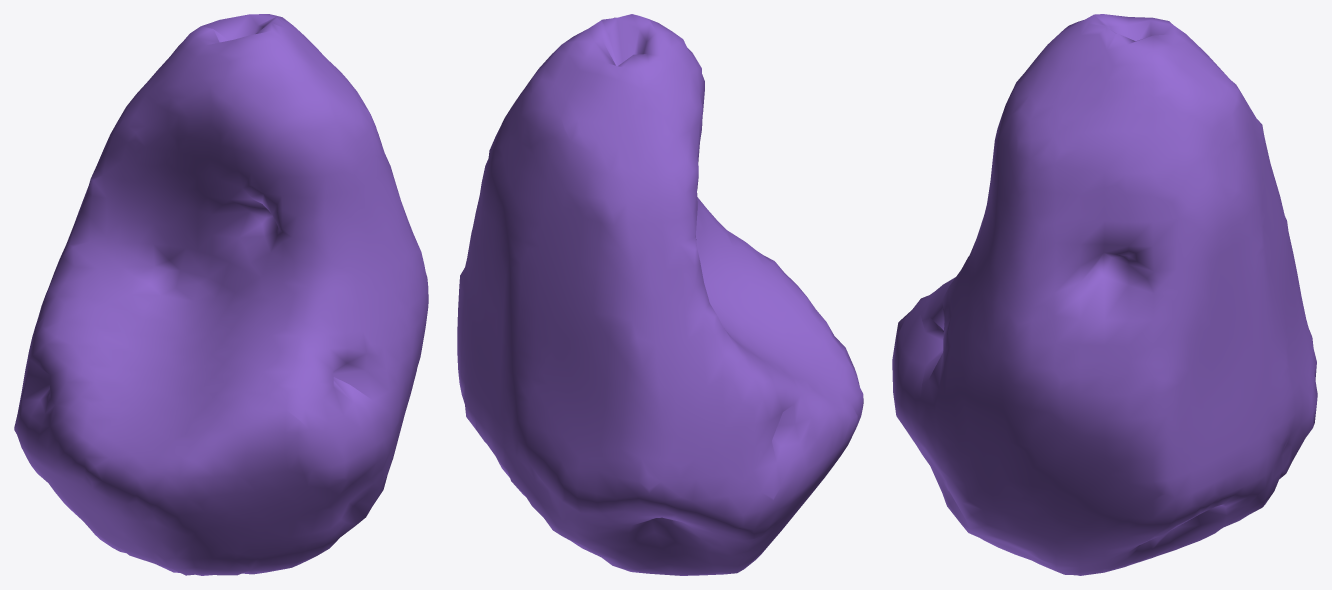
The model's file is Rock.fbx.
The picture shows the model from 3 angles, left to right: view 1: azimuth 30°, elevation 25°; view 2: azimuth 150°, elevation 25°; view 3: azimuth 270°, elevation 25°; orthographic projection. The views are drawn at different scales.
Parts seen in each view (by area): view 1: Rock; view 2: Rock; view 3: Rock.
Part boxes in pixels (x1,y1,x2,y2): Rock: (14,14,428,575); Rock: (457,14,863,575); Rock: (892,14,1317,575).
Bounding box in the file's own units: 179 × 249 × 175.
